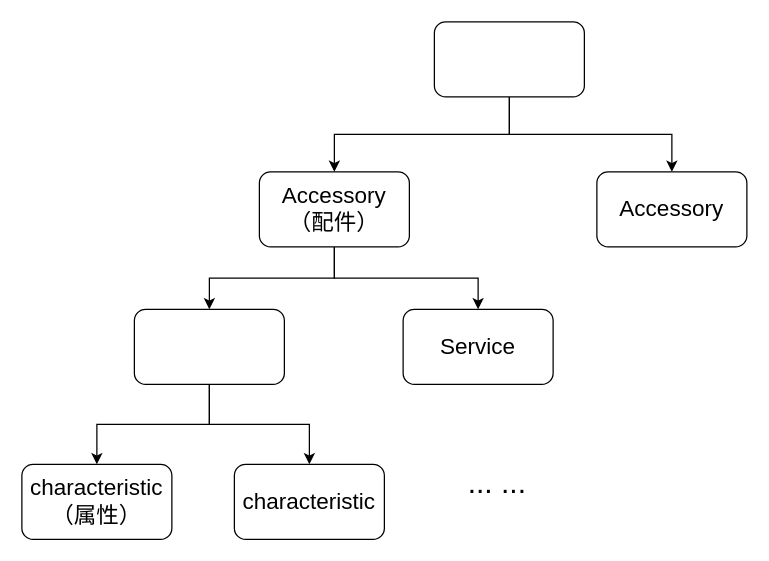
Some shapes in this 769 by 561 pixel diagram are drawn without their labels. Each missing label, with the centre of its shape:
Bridge （桥）: the point at 508,59
Service （服务）: the point at 208,346
